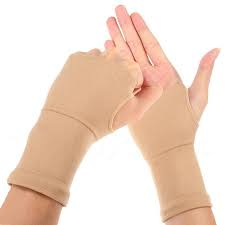palm: (130, 76, 200, 146)
